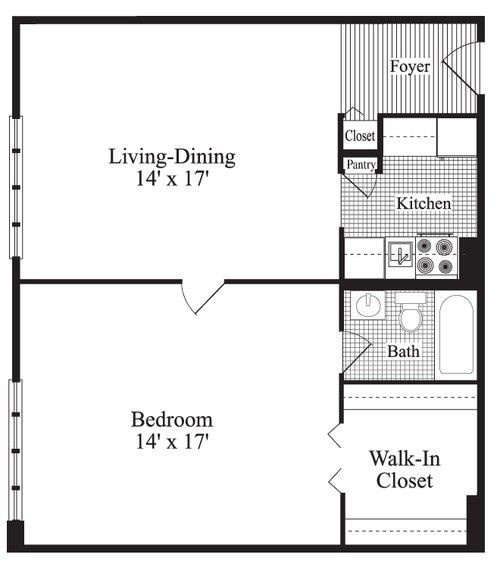door: (178, 275, 225, 317), (444, 43, 480, 92), (345, 332, 373, 373)
room: (19, 285, 338, 550), (24, 18, 339, 275), (345, 152, 483, 281), (340, 19, 474, 112), (347, 290, 476, 376)
wall: (12, 13, 487, 25), (9, 540, 474, 552), (476, 282, 486, 552), (475, 94, 488, 285), (8, 256, 24, 386), (345, 278, 483, 291), (20, 276, 180, 285), (343, 377, 479, 387), (9, 21, 22, 116), (223, 277, 342, 286), (336, 228, 345, 331), (4, 518, 24, 551), (336, 371, 346, 424), (340, 493, 346, 543)
window: (5, 377, 28, 518), (4, 118, 27, 253)
